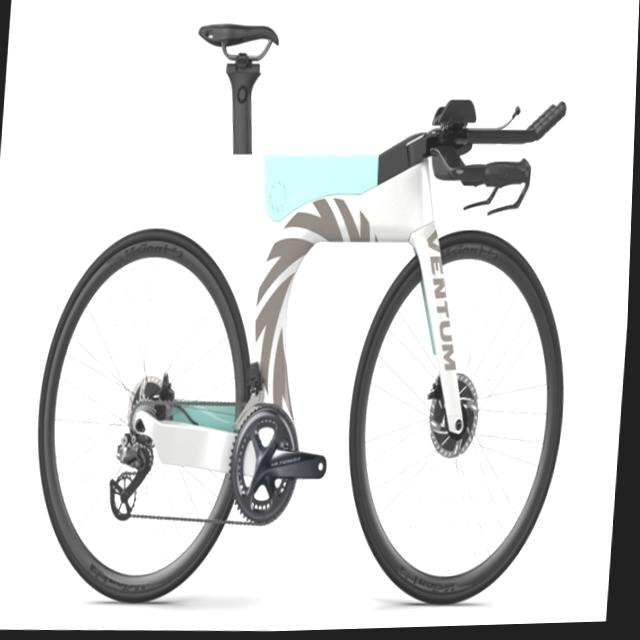TT-bike: (25, 6, 593, 625)
